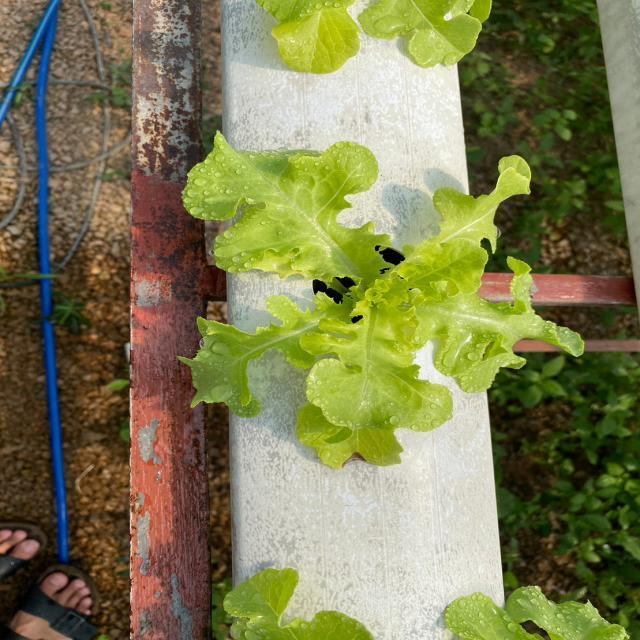Lettuce-Not-Ready-to-Harvest: (184, 135, 582, 467), (261, 0, 490, 72), (225, 569, 374, 640), (445, 588, 620, 640)
